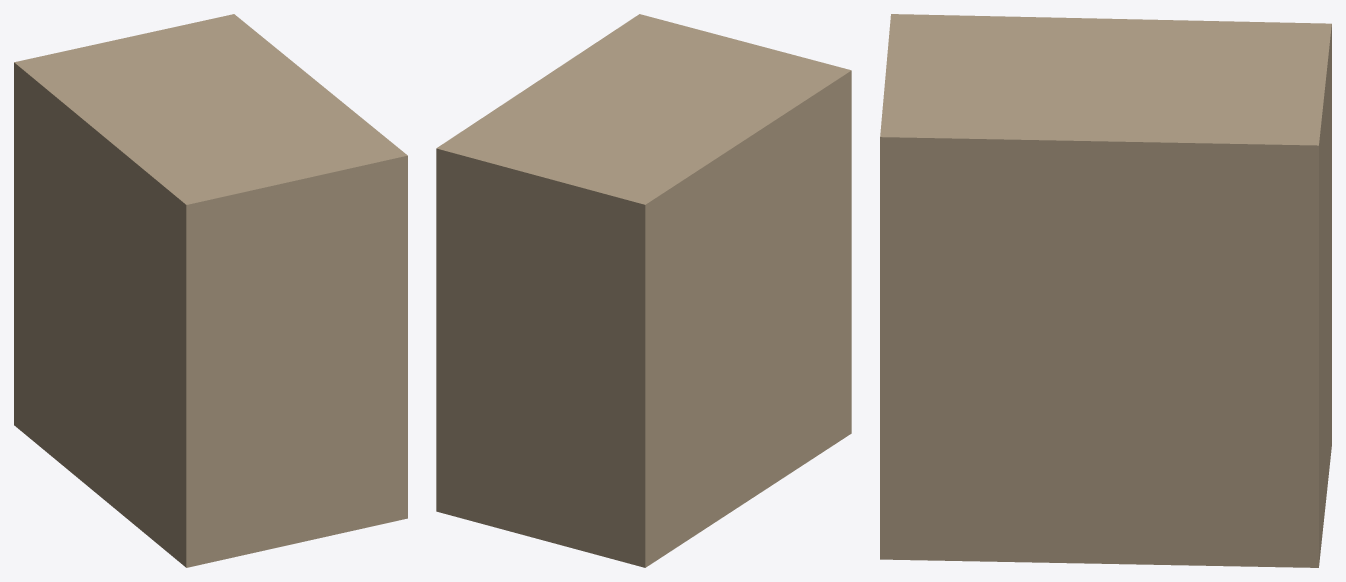
File: bld_101759176.dae
The picture shows the model from 3 angles, left to right: view 1: azimuth 30°, elevation 25°; view 2: azimuth 150°, elevation 25°; view 3: azimuth 270°, elevation 25°; orthographic projection. The views are drawn at different scales.
Visible parts, largest first — view 1: Maldon Car Accessory Centre; view 2: Maldon Car Accessory Centre; view 3: Maldon Car Accessory Centre.
Part boxes in pixels (box(x1,y1,x2,y2)): Maldon Car Accessory Centre: box(14, 14, 407, 567); Maldon Car Accessory Centre: box(436, 14, 851, 567); Maldon Car Accessory Centre: box(880, 14, 1331, 567).
Size of the model in its own units: 6.68 by 9.69 by 10.
